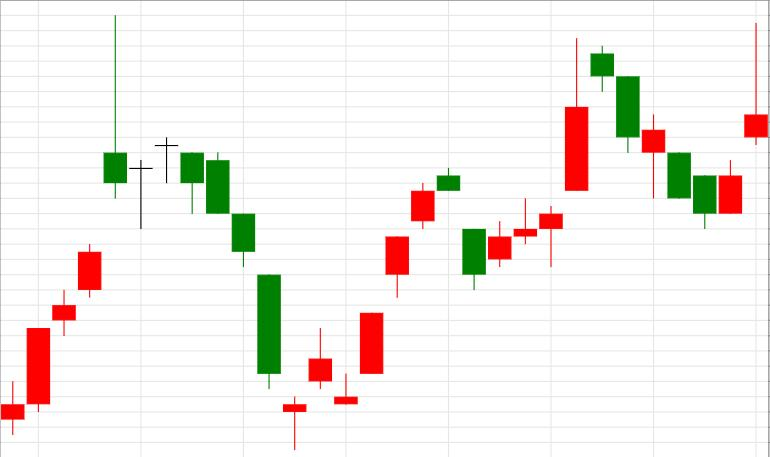evening_star_fall: (335, 169, 486, 406), (489, 39, 640, 268)
morning_star_rise: (156, 137, 332, 451)
shooting_star_fall: (2, 15, 127, 436)
